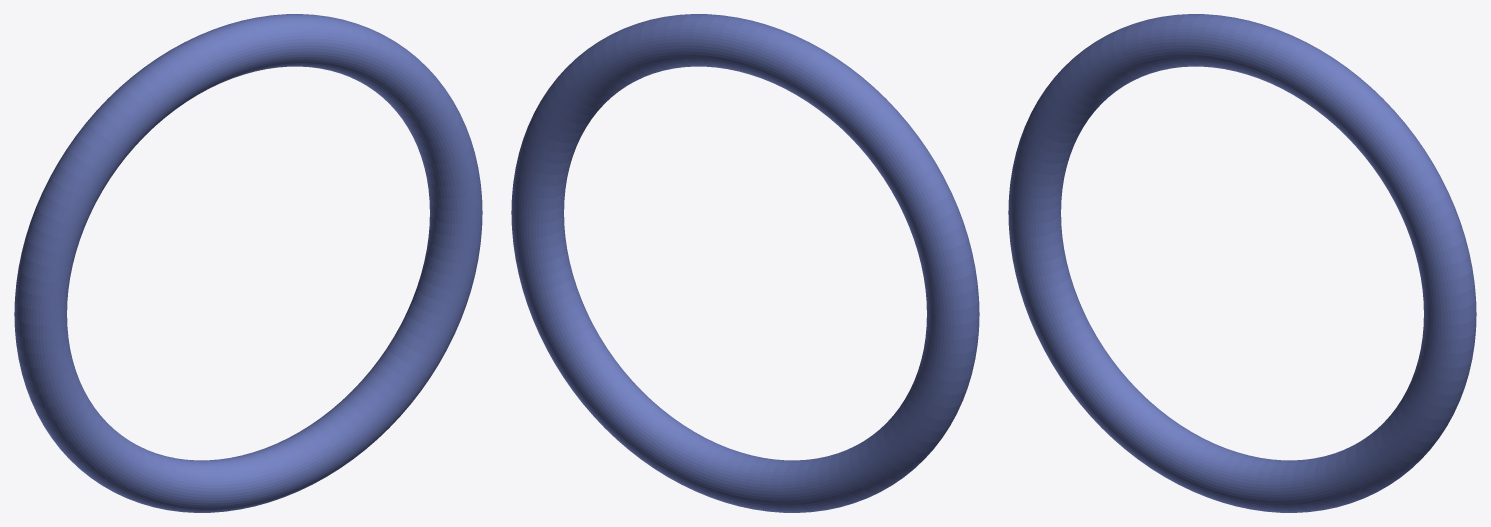
The picture shows the model from 3 angles, left to right: view 1: azimuth 30°, elevation 25°; view 2: azimuth 150°, elevation 25°; view 3: azimuth 330°, elevation 25°; orthographic projection.
Parts seen in each view (by area): view 1: world; view 2: world; view 3: world.
Part boxes in pixels (<box>): world: <box>14,14,482,512</box>; world: <box>511,14,979,512</box>; world: <box>1008,14,1476,512</box>.
Bounding box in the file's own units: 22.93 × 22.93 × 2.26.
